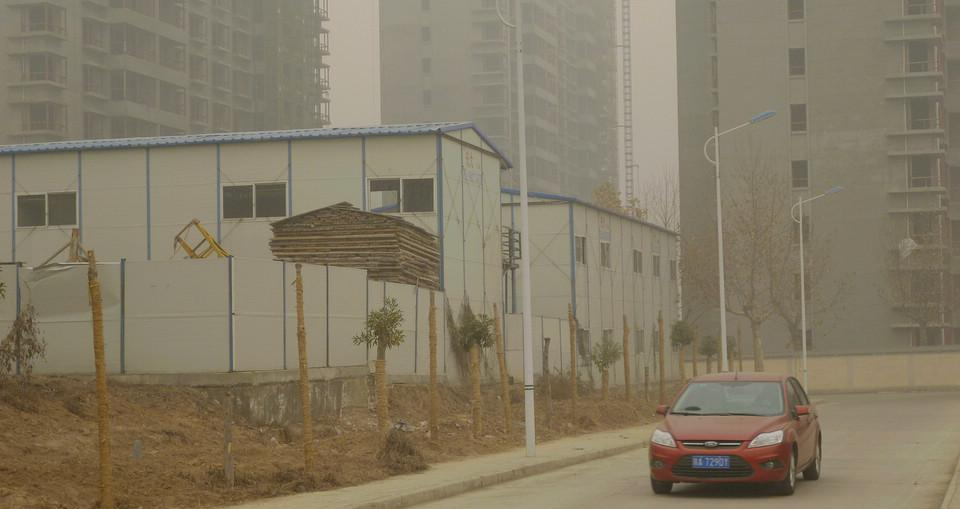car: (648, 373, 820, 495)
